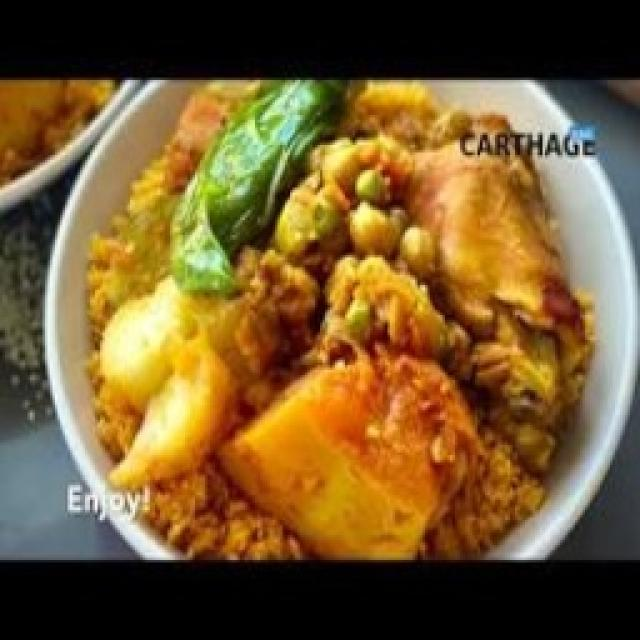Couscous: (90, 82, 590, 558)
